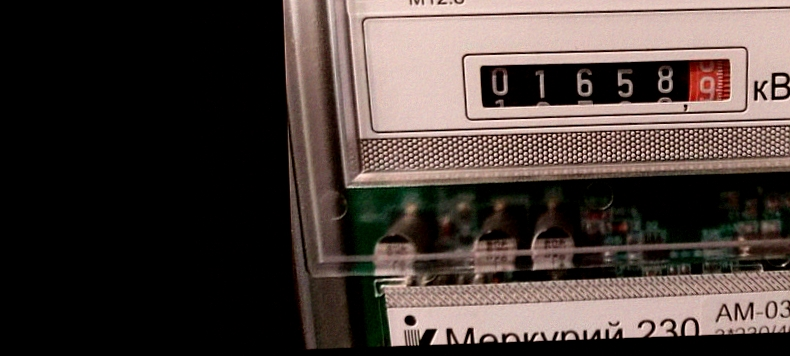0: (489, 65, 511, 96)
1: (533, 67, 551, 100)
5: (615, 66, 637, 98)
6: (574, 64, 596, 98)
8: (655, 61, 677, 94)
9: (696, 74, 718, 103)
screen: (453, 35, 755, 128)
